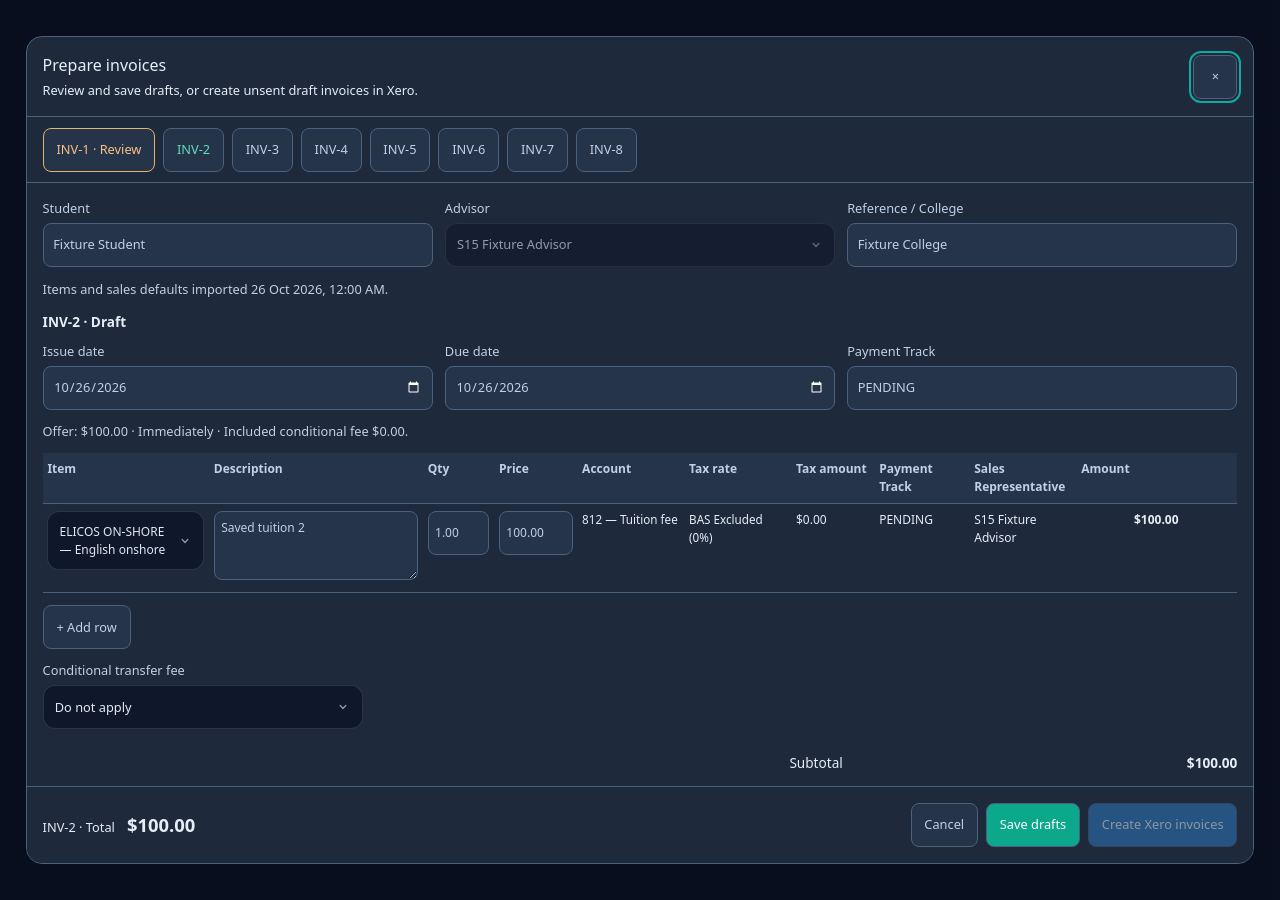
CaseInvoiceDraftsComponent › keeps review-required invoices inside the preparation modal and out of the created table
The image size is (1280, 900).
Click the button "INV-1 · Review". click: [99, 150]
box: left=43, top=128, right=155, bottom=172
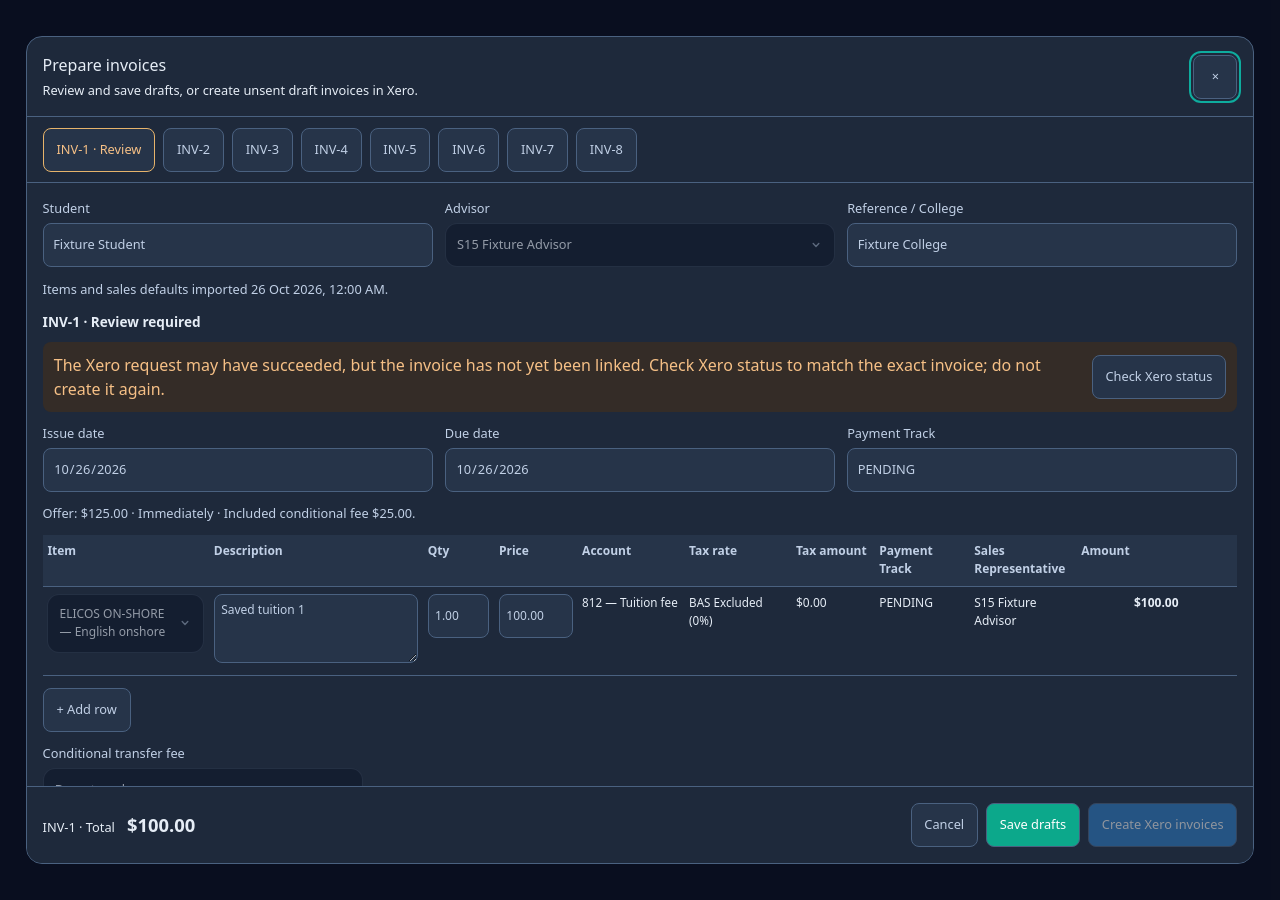
Expected: the element with class "notice" shows "not yet been linked", left=54, top=354, right=1041, bottom=400
Click the button "Check Xero status". click: [1159, 377]
box: left=1092, top=355, right=1226, bottom=399
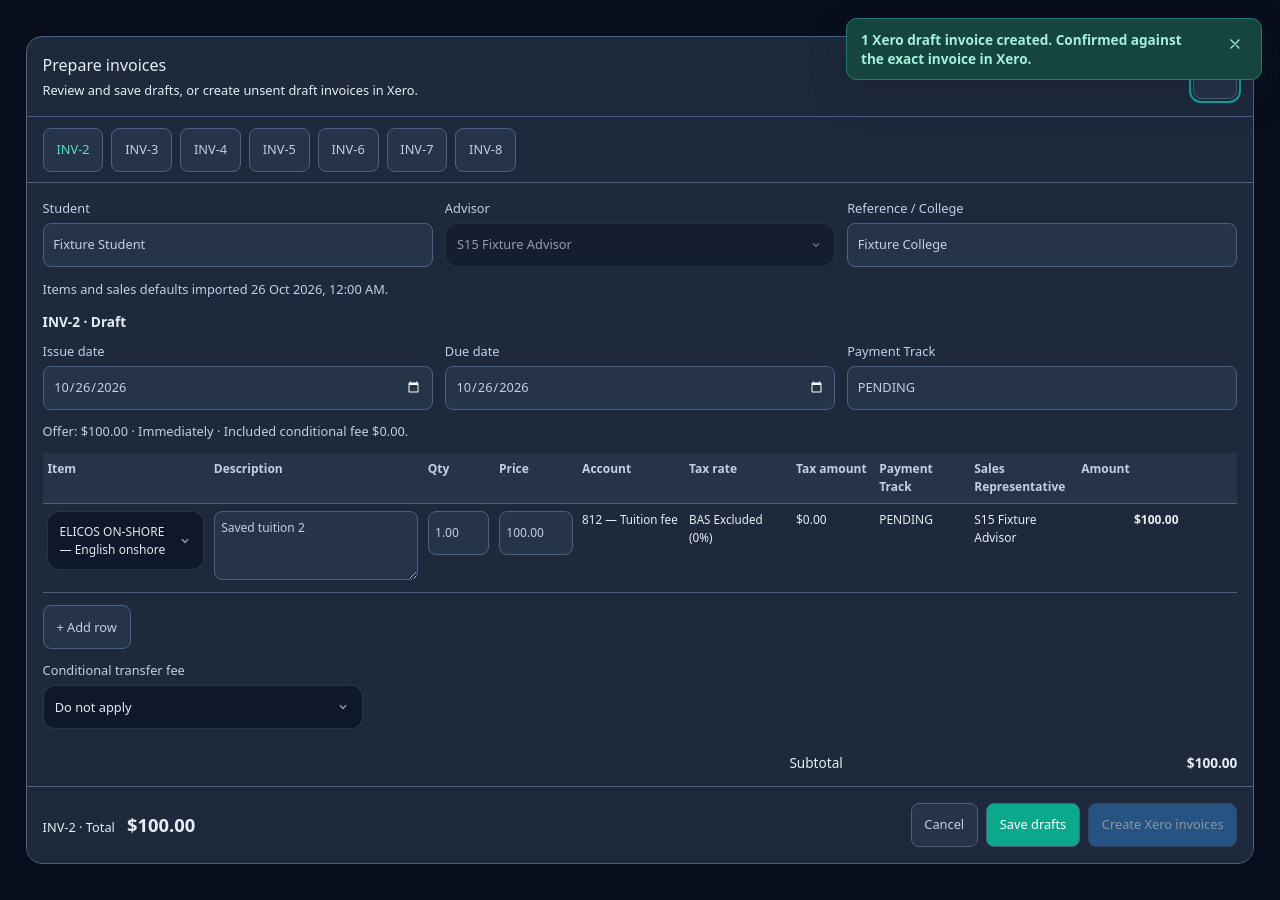
Expected: the button "INV-1 · Review" no longer shows "INV-1"
